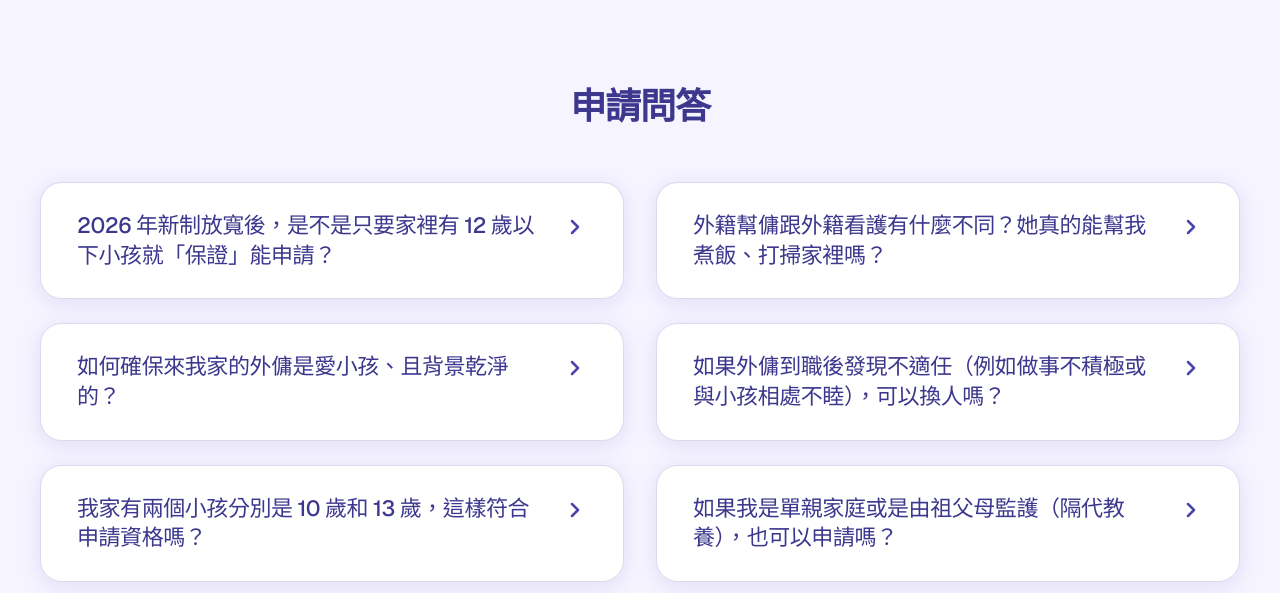
Test: FAQAccordionSection › 支援多個同時展開
The image size is (1280, 593).
Click the button "2026 年新制放寬後，是不是只要家裡有 12 歲以下小孩就「保證」能申請？" at (332, 241), box top-left (41, 183), bottom-right (623, 298)
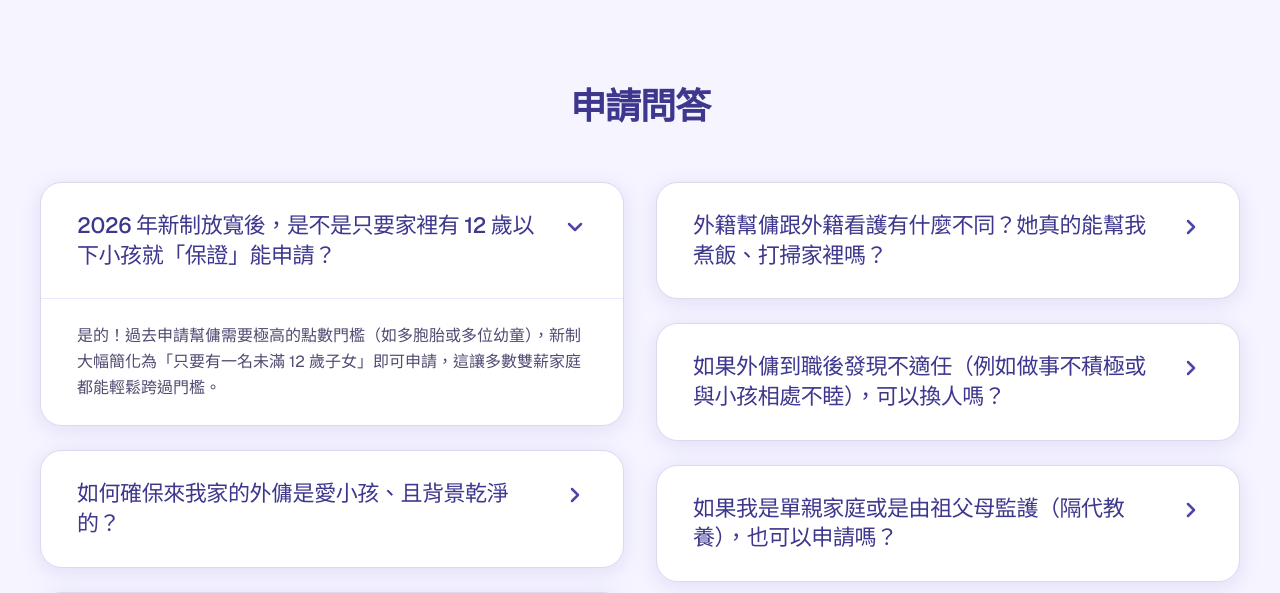
Click the button "如何確保來我家的外傭是愛小孩、且背景乾淨的？" at (332, 509), box top-left (41, 451), bottom-right (623, 567)
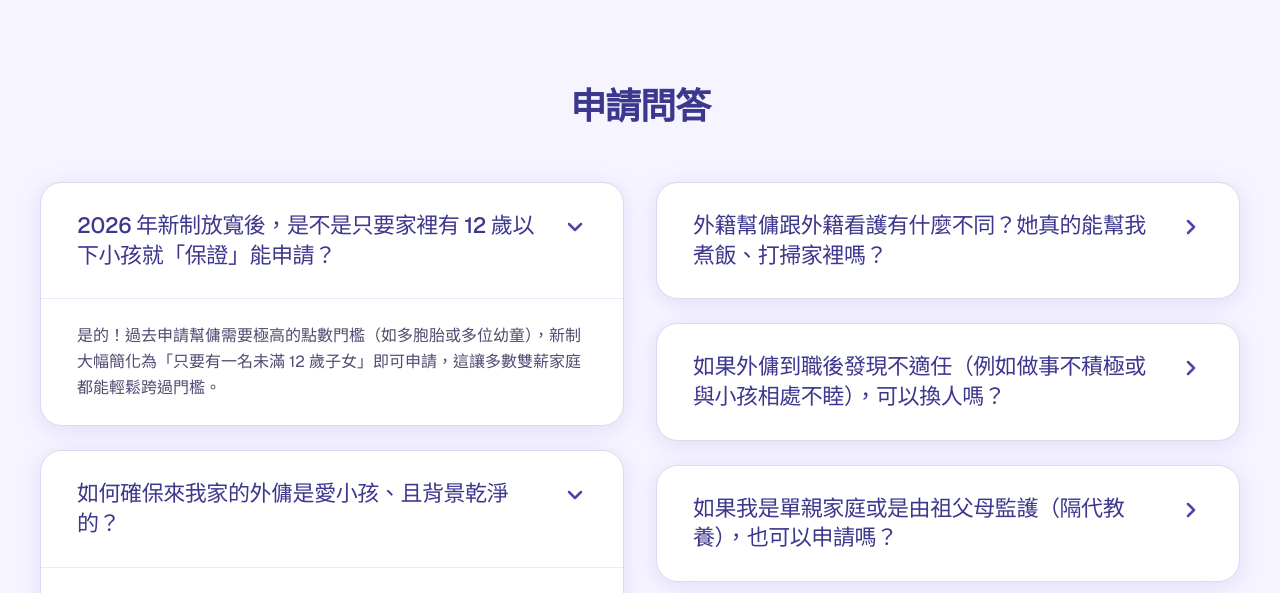
Check: the button "2026 年新制放寬後，是不是只要家裡有 12 歲以下小孩就「保證」能申請？" is expanded, box top-left (41, 183), bottom-right (623, 298)
Check: the button "如何確保來我家的外傭是愛小孩、且背景乾淨的？" is expanded, box top-left (41, 451), bottom-right (623, 567)
